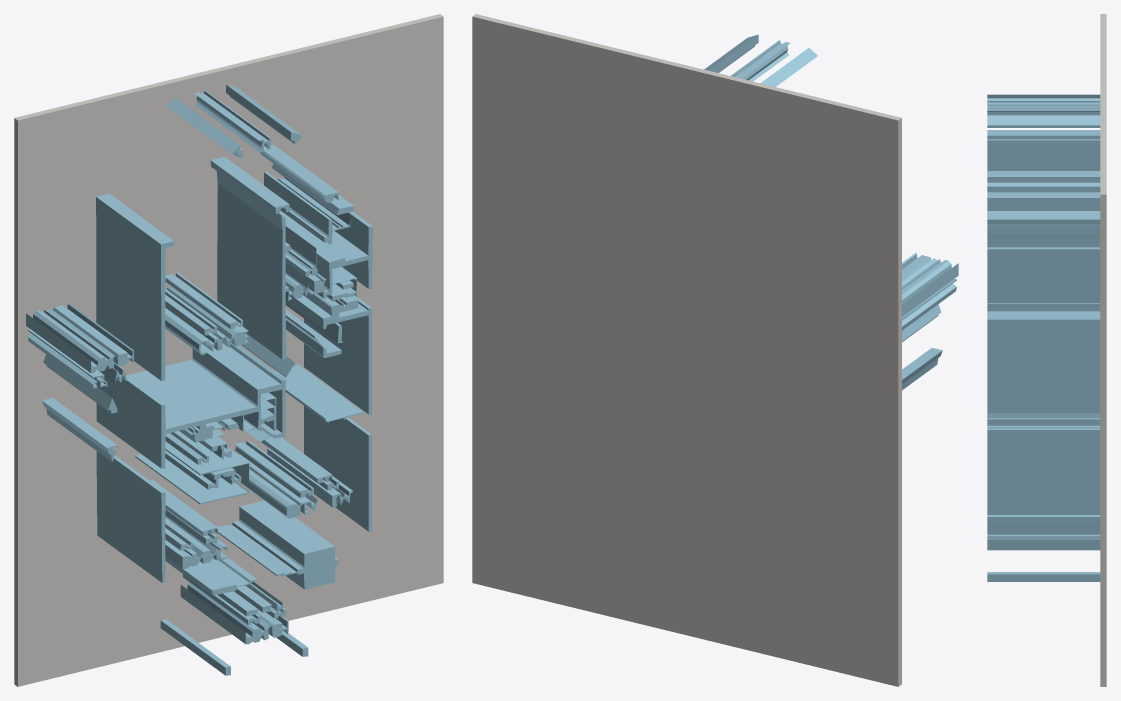
3 renders of one model, left to right at view 1: azimuth 30°, elevation 25°; view 2: azimuth 150°, elevation 25°; view 3: azimuth 270°, elevation 25°, orthographic. The views are drawn at different scales.
Visible parts, largest first — view 1: world; view 2: world; view 3: world.
Boxes of the visible parts, x1,y1,x2,y2 form: world: [14, 14, 443, 686]; world: [472, 14, 958, 686]; world: [987, 14, 1106, 686].
Size of the model in its own units: 10.23 by 13 by 2.85.
